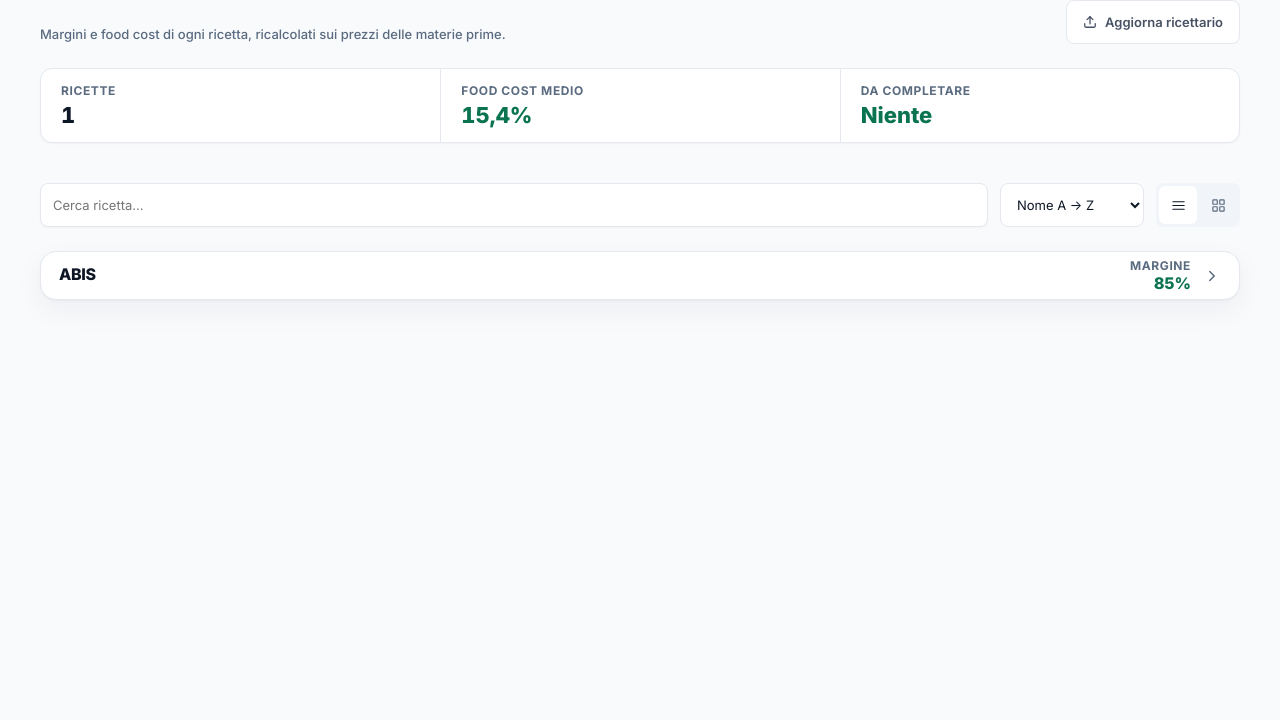
Test case: Ricettario — i gusti contano il ricavo senza IVA › la spiegazione del conto al kg dice che il prezzo è senza IVA
The width and height of the screenshot is (1280, 720).
Click the text "ABIS": (77, 274) [59,264,96,284]
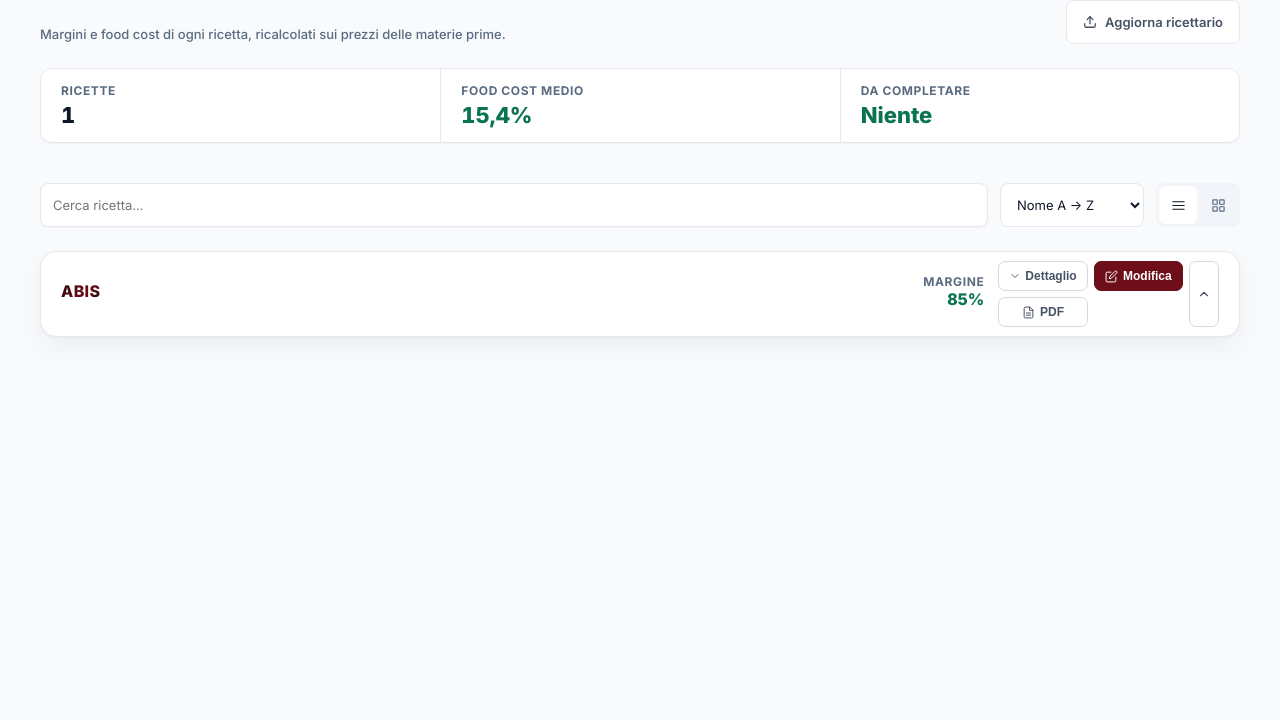
Click the button "Dettaglio": (1043, 276) [998,261,1088,291]
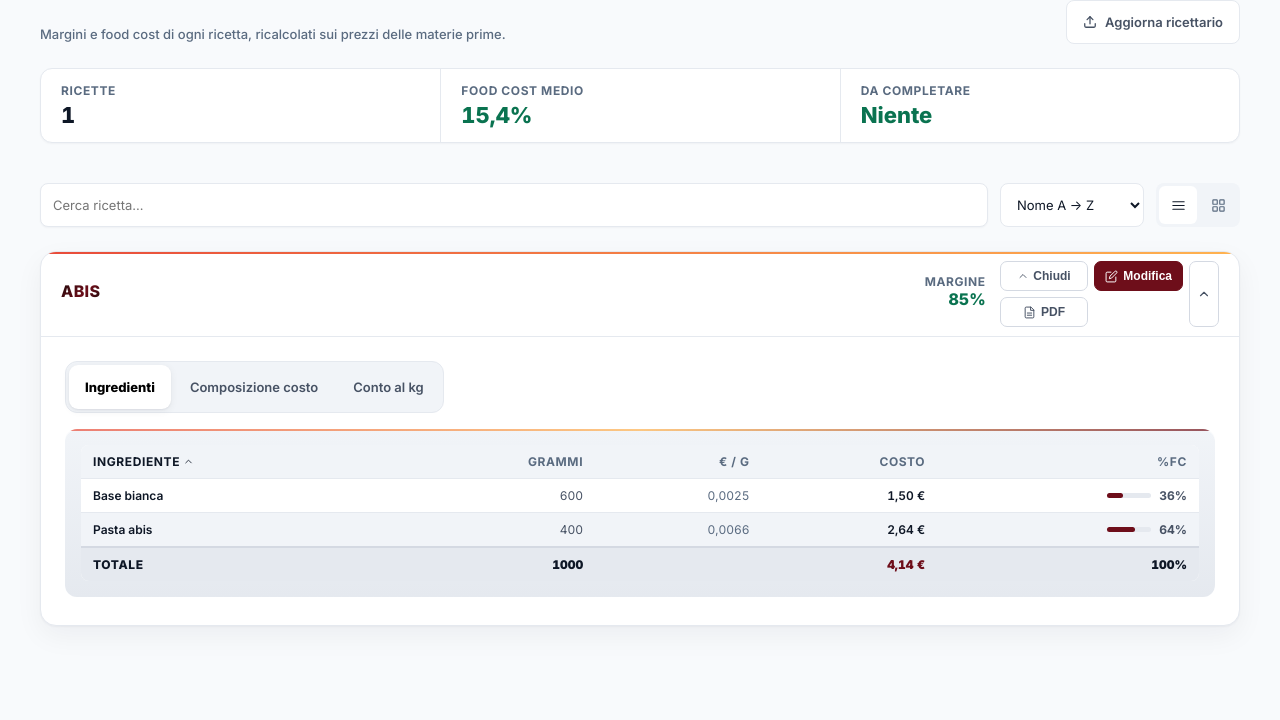
Click the button "Conto al kg": (389, 387) [337,365,440,409]
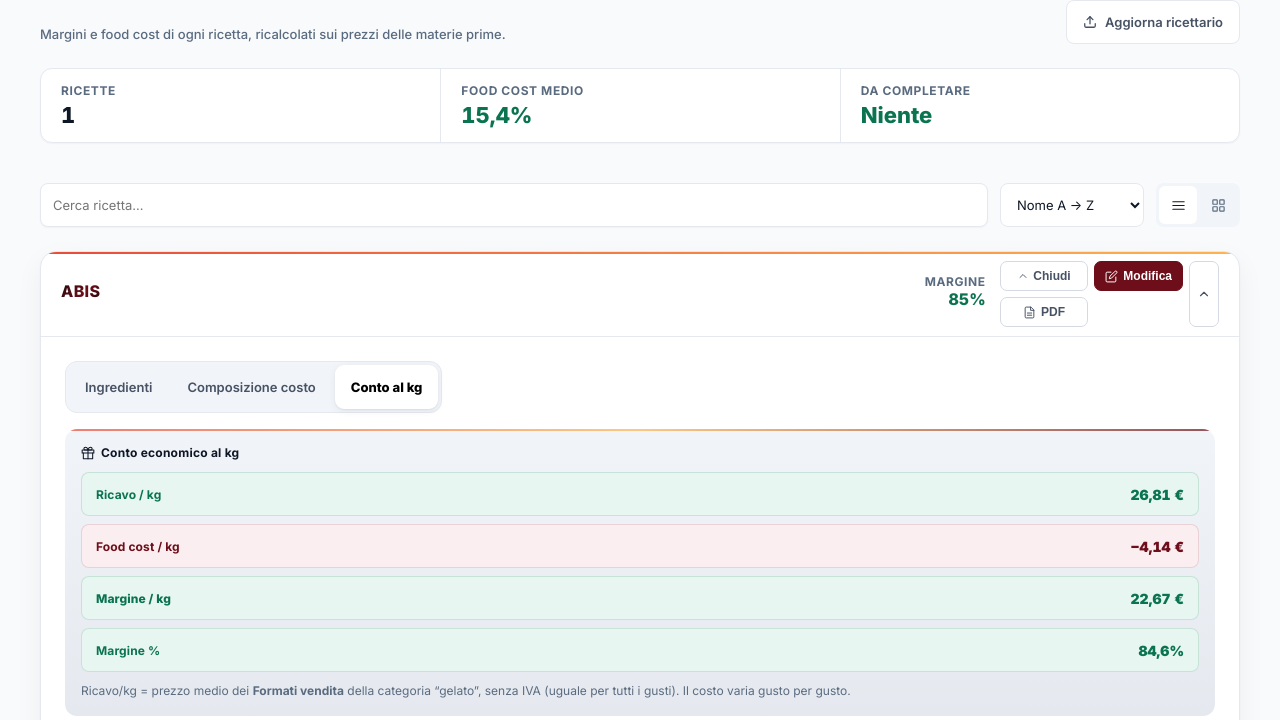
Now the text "Ricavo/kg = prezzo medio dei Formati vendita della categoria .gelato., senza IVA" is shown, box [81,683,851,698]
